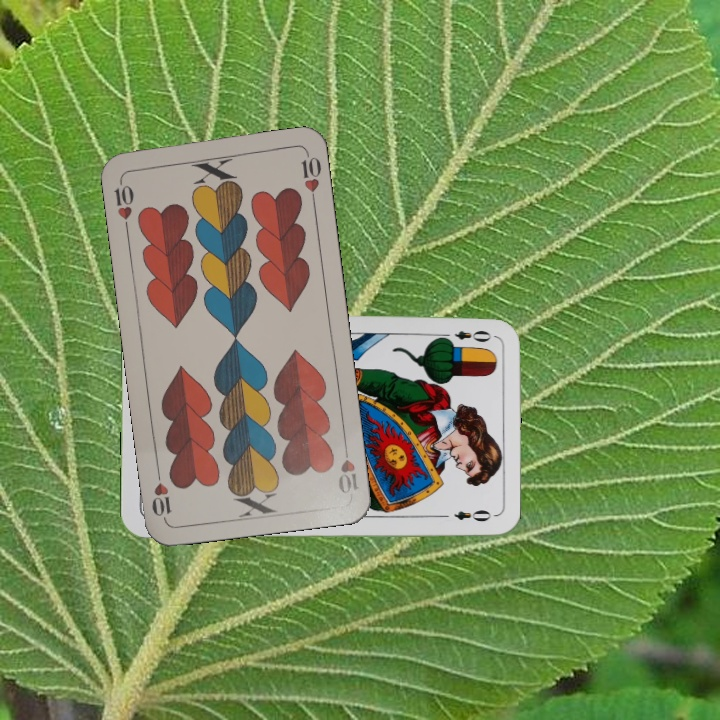EO: (436, 326, 494, 345)
H10: (110, 174, 137, 233), (334, 438, 361, 496)
